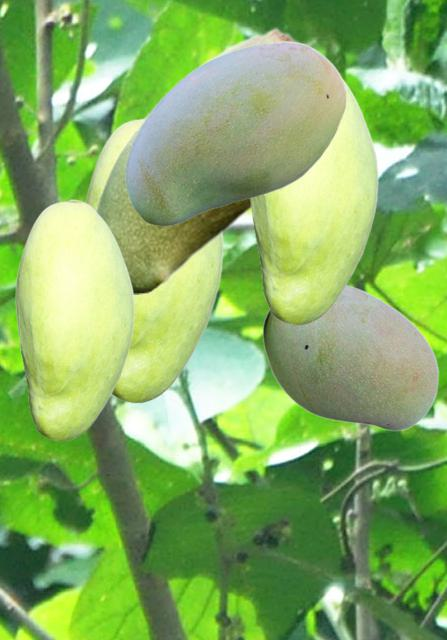green_mango: (94, 27, 312, 293), (125, 41, 346, 224), (83, 116, 222, 402), (248, 78, 377, 324), (15, 199, 133, 440), (262, 285, 438, 430)
